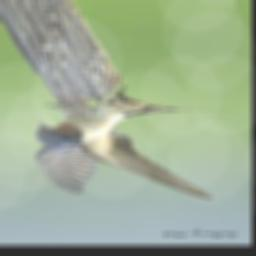Swallow: (34, 87, 234, 203)
